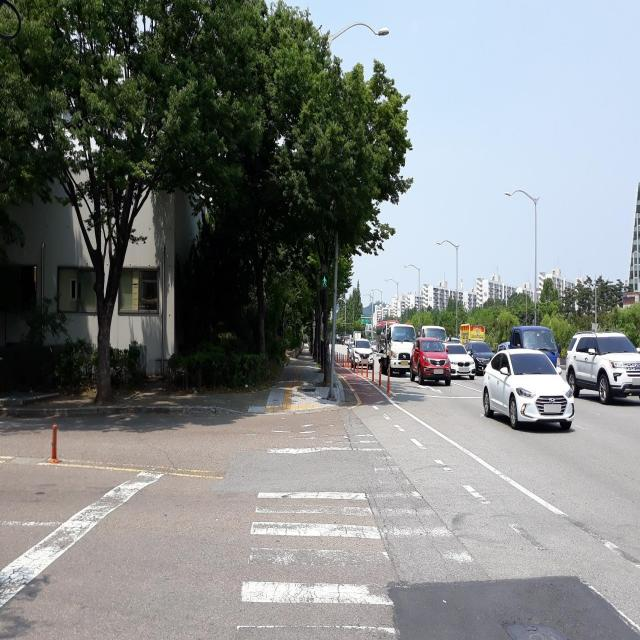횡단보도: (236, 407, 475, 640)
